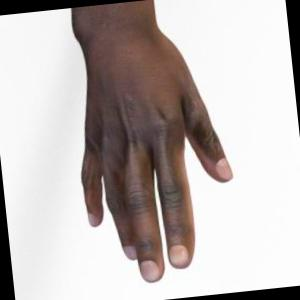paper: (71, 0, 231, 282)
